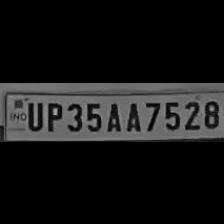2: (181, 97, 199, 130)
3: (64, 100, 82, 132)
5: (160, 97, 180, 130), (84, 98, 103, 132)
7: (140, 98, 160, 132)
8: (200, 97, 220, 129)
A: (104, 98, 122, 132), (122, 98, 140, 132)
P: (43, 100, 62, 132)
U: (24, 99, 42, 131)
